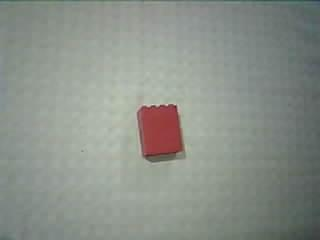lego: (135, 104, 183, 158)
